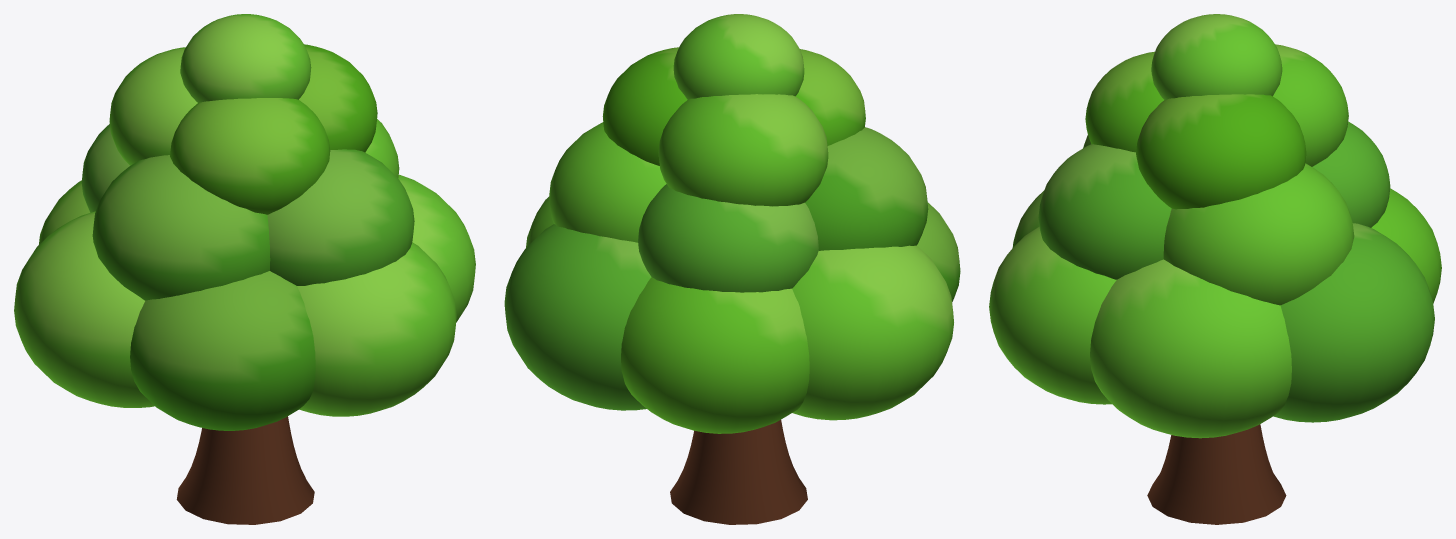
Rendered from pine-tree-118.obj.
The picture shows the model from 3 angles, left to right: view 1: azimuth 30°, elevation 25°; view 2: azimuth 150°, elevation 25°; view 3: azimuth 270°, elevation 25°; orthographic projection.
Visible parts, largest first — view 1: tree; view 2: tree; view 3: tree.
Boxes of the visible parts, bbox=[...] form: tree: bbox=[14, 14, 475, 524]; tree: bbox=[504, 14, 960, 524]; tree: bbox=[989, 14, 1441, 524].
Bounding box in the file's own units: 258 × 283 × 245.
